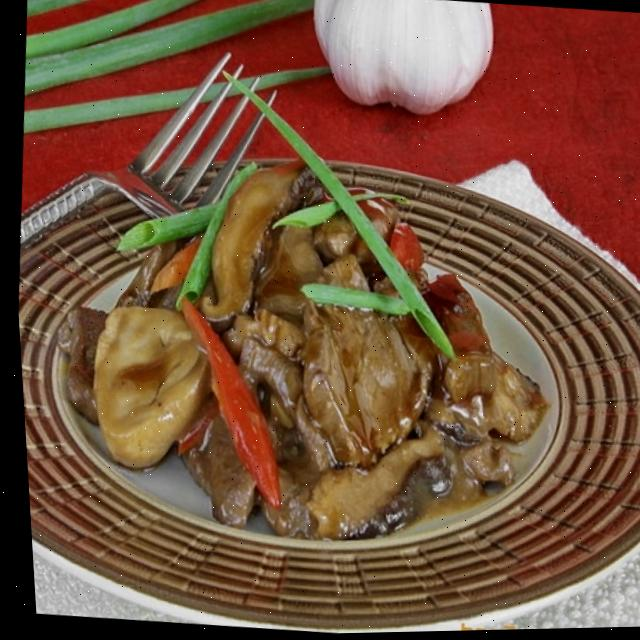牛肉菜式: (6, 114, 640, 640)
